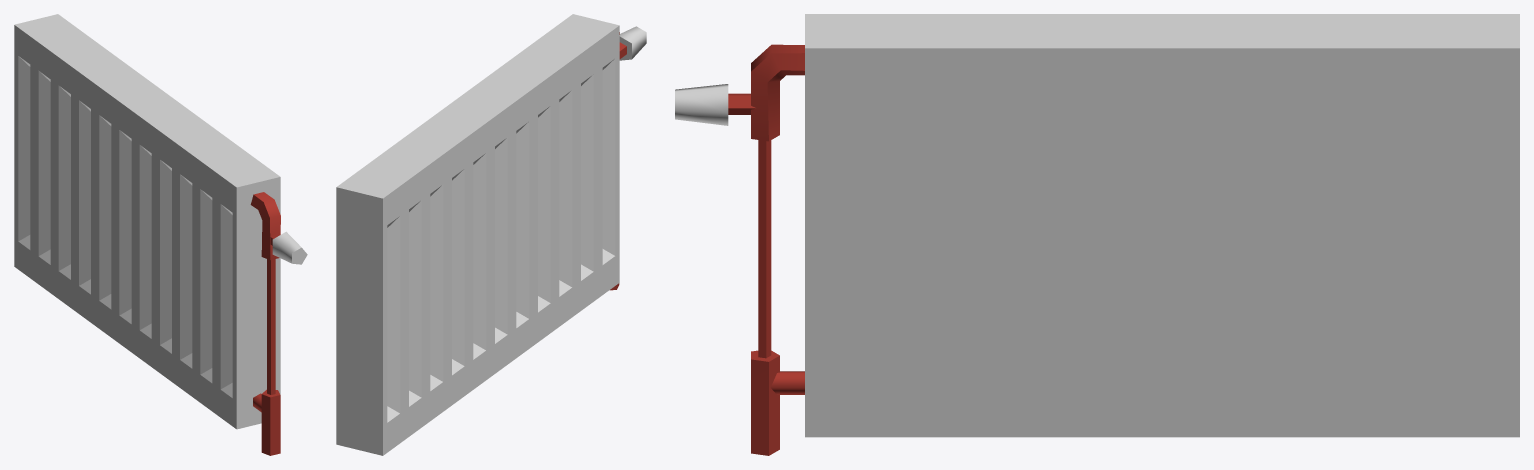
File: SM_Radiator_01.fbx
The picture shows the model from 3 angles, left to right: view 1: azimuth 30°, elevation 25°; view 2: azimuth 150°, elevation 25°; view 3: azimuth 270°, elevation 25°; orthographic projection. The views are drawn at different scales.
Parts seen in each view (by area): view 1: SM_Radiator_01; view 2: SM_Radiator_01; view 3: SM_Radiator_01.
Boxes of the visible parts, left/top/right/bottom form: SM_Radiator_01: left=14, top=14, right=307, bottom=455; SM_Radiator_01: left=336, top=14, right=646, bottom=455; SM_Radiator_01: left=675, top=14, right=1519, bottom=455.
Bounding box in the file's own units: 15.78 × 89.48 × 164.
